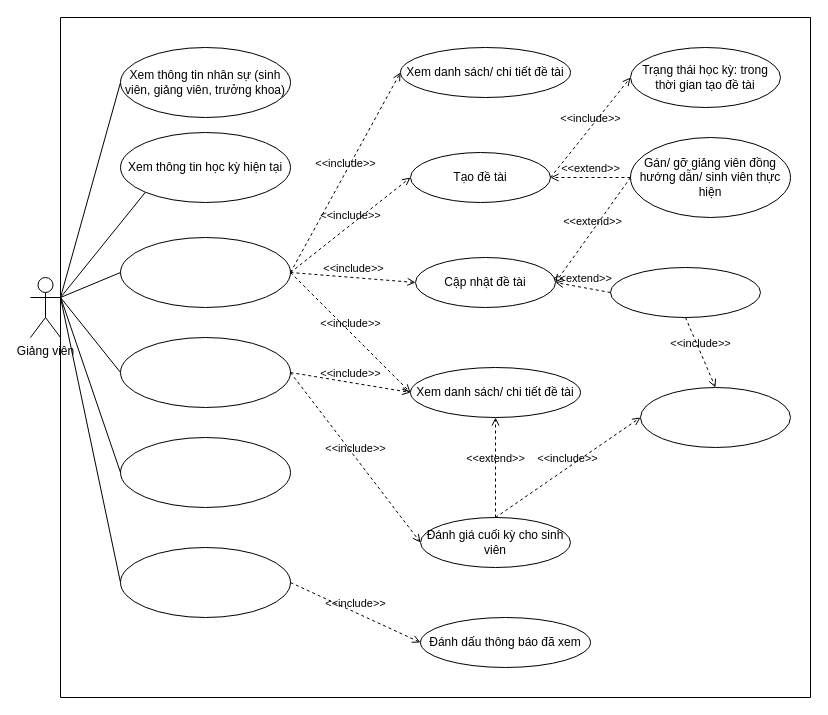
Some shapes in this 828 by 715 pixel diagram are drawn without their labels. The box of each missing label's shape, as (x1, y1, x2, y2) in pixels:
Quản lý đề tài hướng dẫn: (120, 236, 290, 308)
Quản lý đề tài phản biện: (120, 336, 290, 408)
Trạng thái học kỳ: trong thời gian đánh giá: (640, 386, 790, 448)
Xem danh sách/ chi tiết hội đồng: (120, 436, 290, 508)
Xem thông báo về đề tài, hội đồng: (120, 546, 290, 618)
Đánh giá giữa kỳ/ cuối kỳ cho sinh viên: (610, 266, 760, 318)
